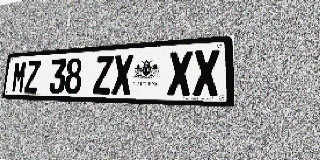3: (49, 58, 67, 94)
8: (64, 57, 83, 94)
M: (11, 61, 27, 93)
X: (193, 49, 220, 96), (167, 51, 193, 96), (112, 54, 134, 95)
Z: (93, 56, 114, 94), (24, 60, 41, 93)
